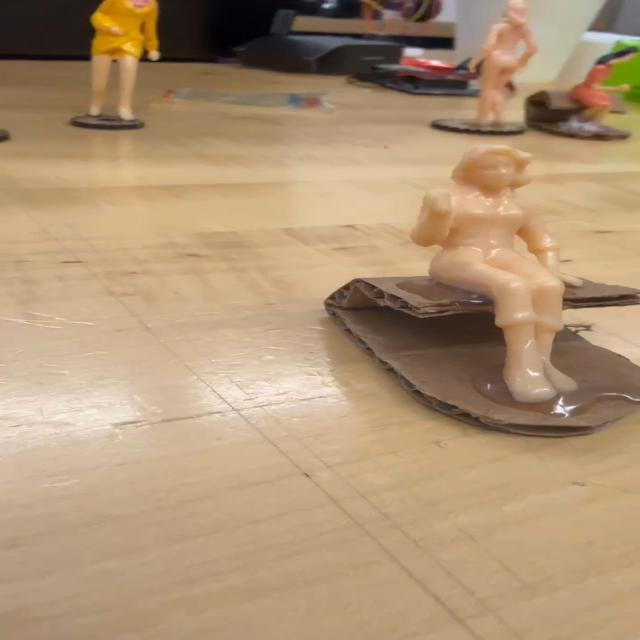Unauthorized: (409, 143, 592, 408)
